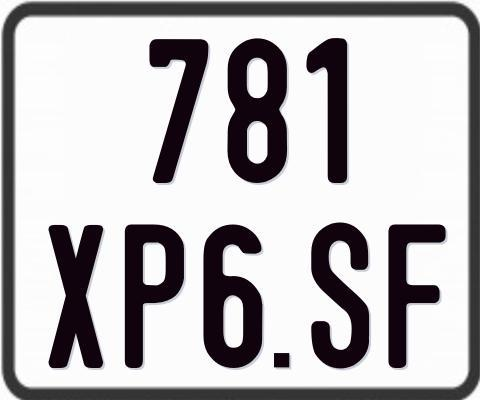1: (303, 36, 349, 182)
6: (200, 225, 262, 368)
7: (147, 37, 206, 184)
8: (226, 38, 290, 188)
F: (385, 223, 445, 367)
P: (122, 222, 187, 372)
S: (309, 221, 372, 370)
X: (46, 223, 105, 371)
